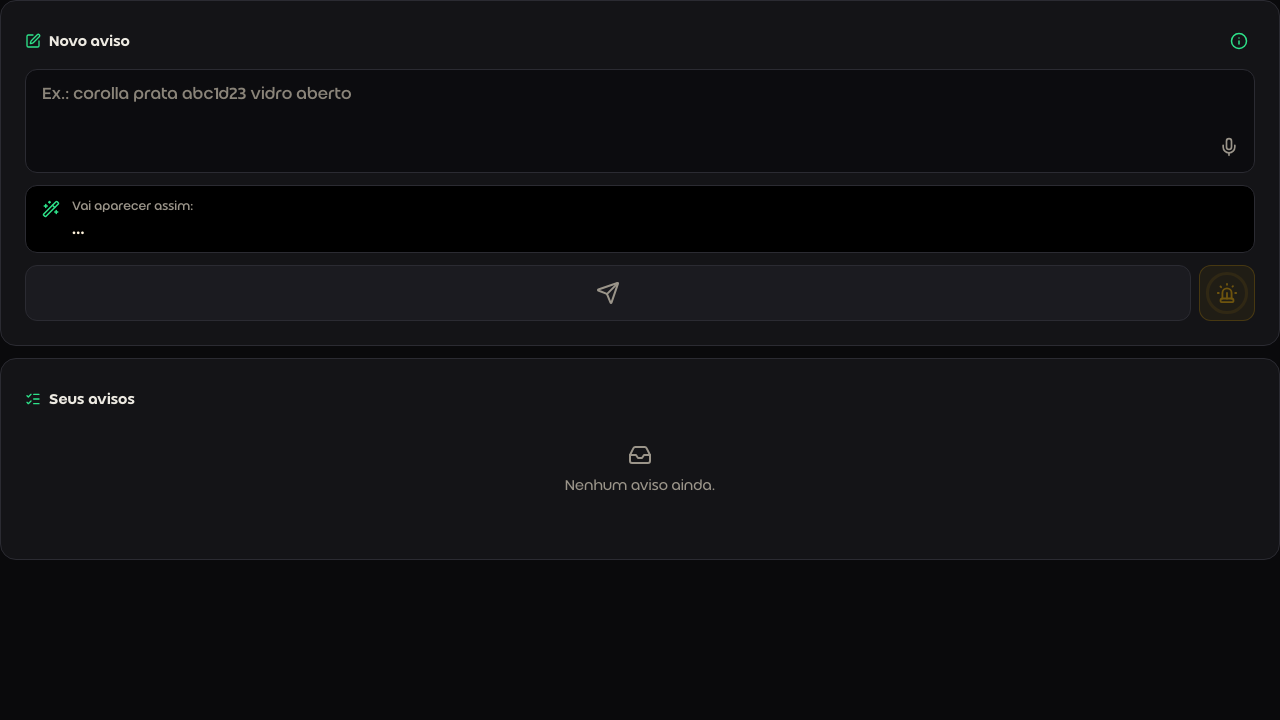
Test: SendTab: enviar › Urgente segurado 1 s manda urgent true, vibra e avisa
Type "prata corolla bra2e19 vidro aberto" into the text box labelled "Novo aviso". click: {"x": 640, "y": 121}
box: [25, 69, 1255, 173]
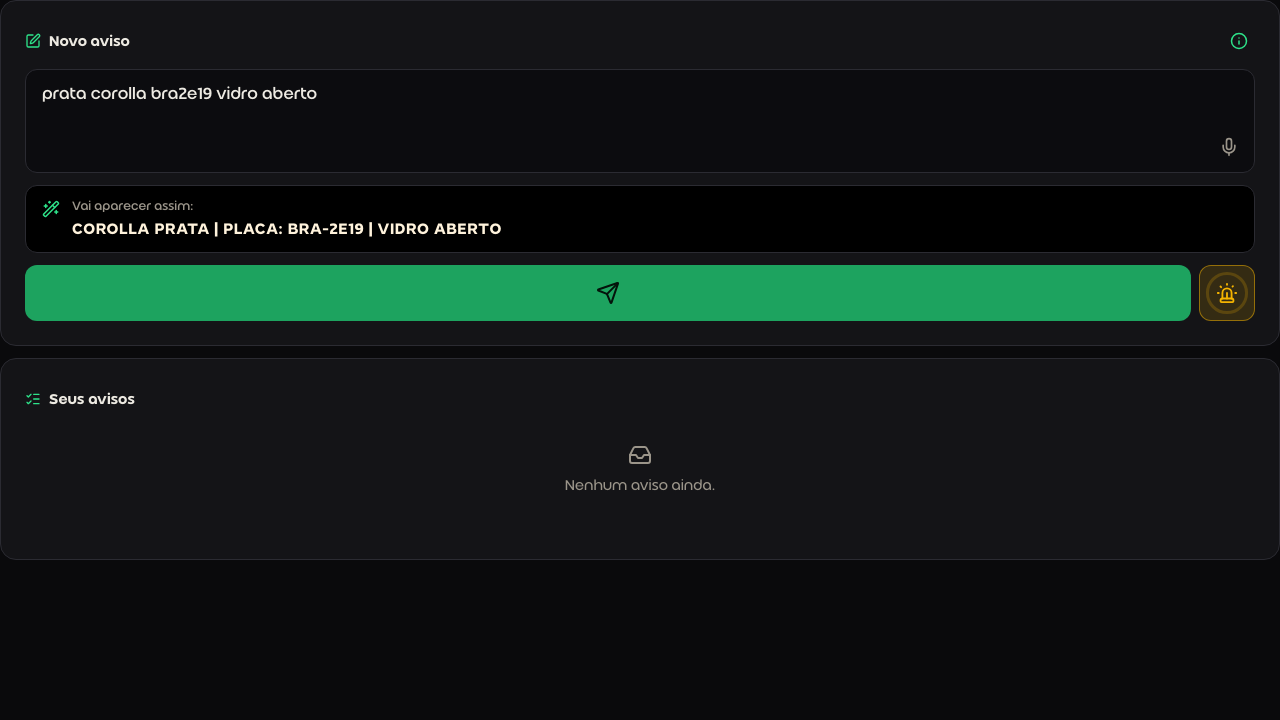
Press the mouse on the button named "Segure 1 s para urgente" at {"x": 1227, "y": 293}, box [1199, 265, 1255, 321]
Wait 1000 ms
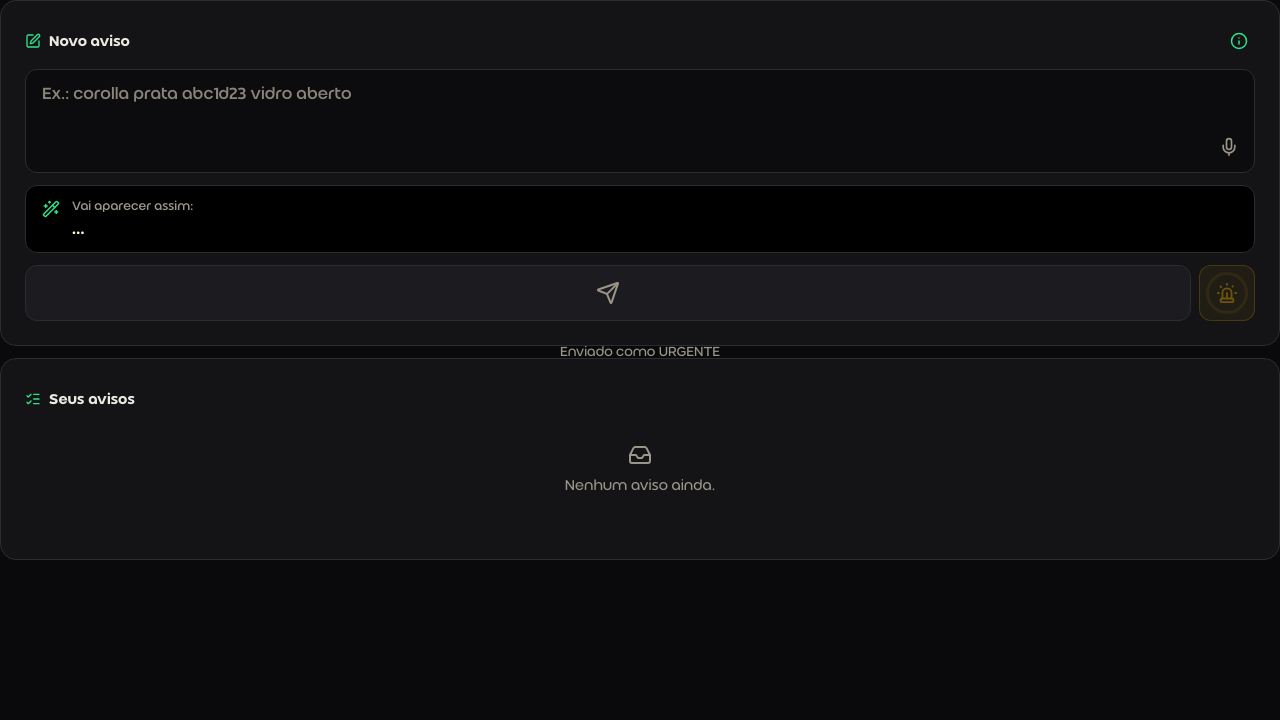
Expected: the text "Enviado como URGENTE" is shown, [560, 343, 720, 359]
Expected: the text box labelled "Novo aviso" is empty, [25, 69, 1255, 173]
